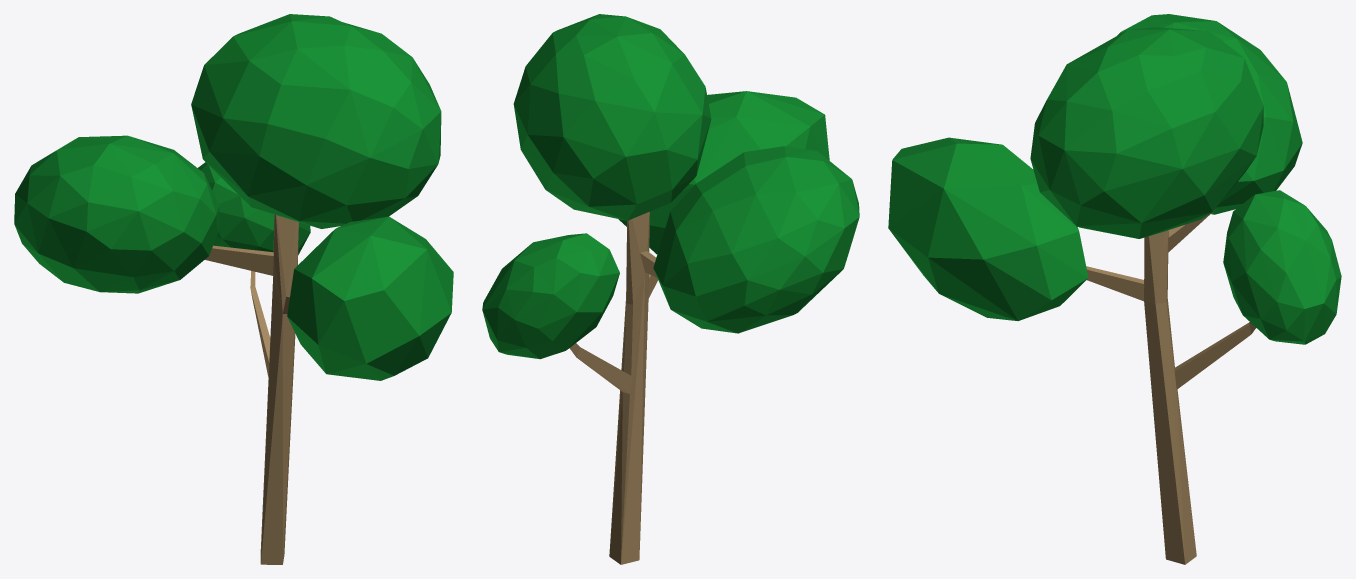
The model's file is tree1.glb.
The picture shows the model from 3 angles, left to right: view 1: azimuth 30°, elevation 25°; view 2: azimuth 150°, elevation 25°; view 3: azimuth 270°, elevation 25°; orthographic projection. The views are drawn at different scales.
Parts seen in each view (by area): view 1: Sphere.003, Sphere.001, Sphere, Cylinder, Sphere.002; view 2: Sphere.003, Sphere.001, Sphere.002, Cylinder, Sphere; view 3: Sphere.003, Sphere, Sphere.002, Cylinder, Sphere.001.
Part boxes in pixels (<box>): Sphere.003: <box>191,14,441,228</box>; Sphere.001: <box>14,135,219,293</box>; Sphere: <box>287,216,453,380</box>; Cylinder: <box>205,214,298,564</box>; Sphere.002: <box>198,162,310,255</box>; Sphere.003: <box>513,14,711,220</box>; Sphere.001: <box>653,146,859,333</box>; Sphere.002: <box>482,233,619,359</box>; Cylinder: <box>569,211,657,564</box>; Sphere: <box>618,91,829,254</box>; Sphere.003: <box>1030,27,1263,238</box>; Sphere: <box>888,137,1088,320</box>; Sphere.002: <box>1223,190,1341,344</box>; Cylinder: <box>1086,209,1255,564</box>; Sphere.001: <box>1117,14,1302,214</box>.
Size of the model in its own units: 1.27 by 1.79 by 1.37.
